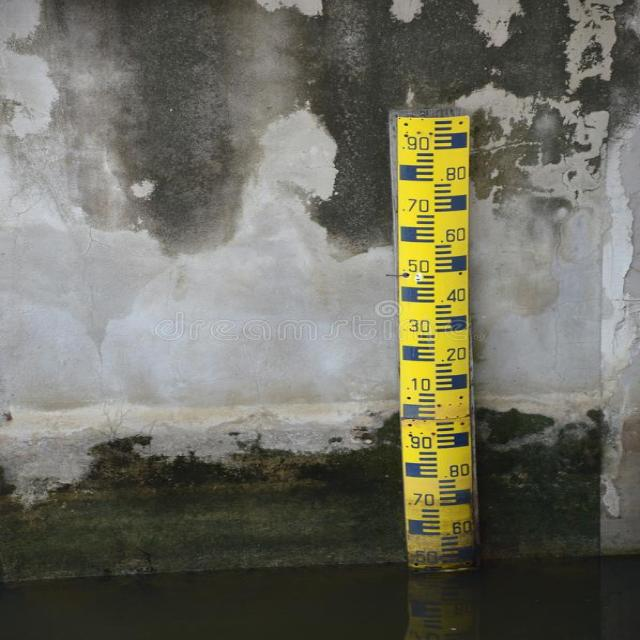ruler: (388, 110, 488, 575)
value: (397, 196, 433, 215), (397, 134, 433, 152), (400, 256, 434, 275), (438, 225, 470, 245), (437, 164, 469, 183), (400, 316, 432, 334), (438, 286, 469, 304), (438, 345, 469, 363), (411, 548, 442, 566), (444, 518, 474, 536), (404, 375, 433, 393), (406, 491, 438, 507), (404, 434, 434, 451), (443, 463, 473, 479)
